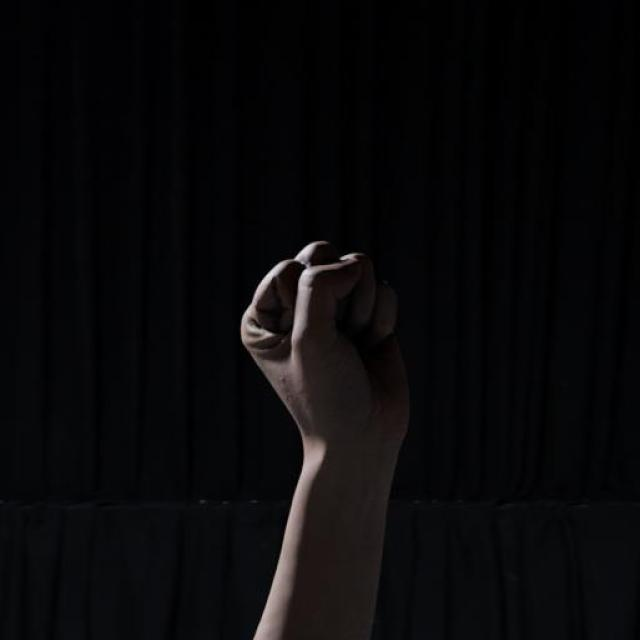S: (237, 236, 417, 449)
